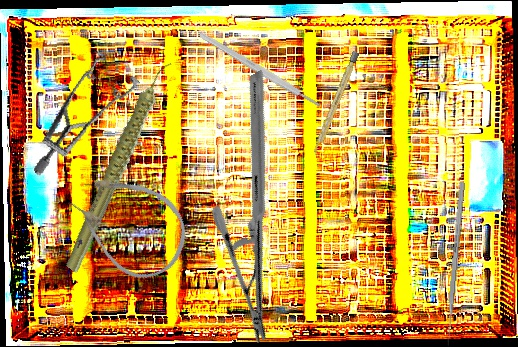Cannula: (54, 151, 204, 295)
Handpiece: (26, 58, 216, 275)
Needle Holder: (138, 69, 379, 345)
Pusher: (444, 182, 466, 346)
Scalpel Handle: (197, 30, 323, 110), (311, 50, 360, 157)
Speculum: (4, 40, 158, 178)
